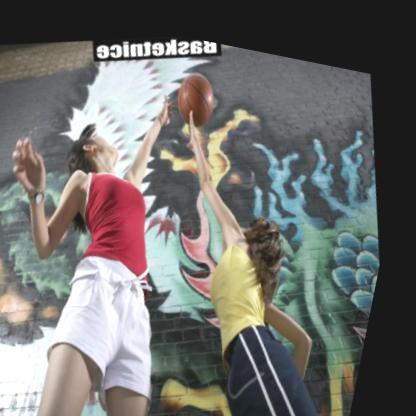basketball: (170, 57, 227, 127)
